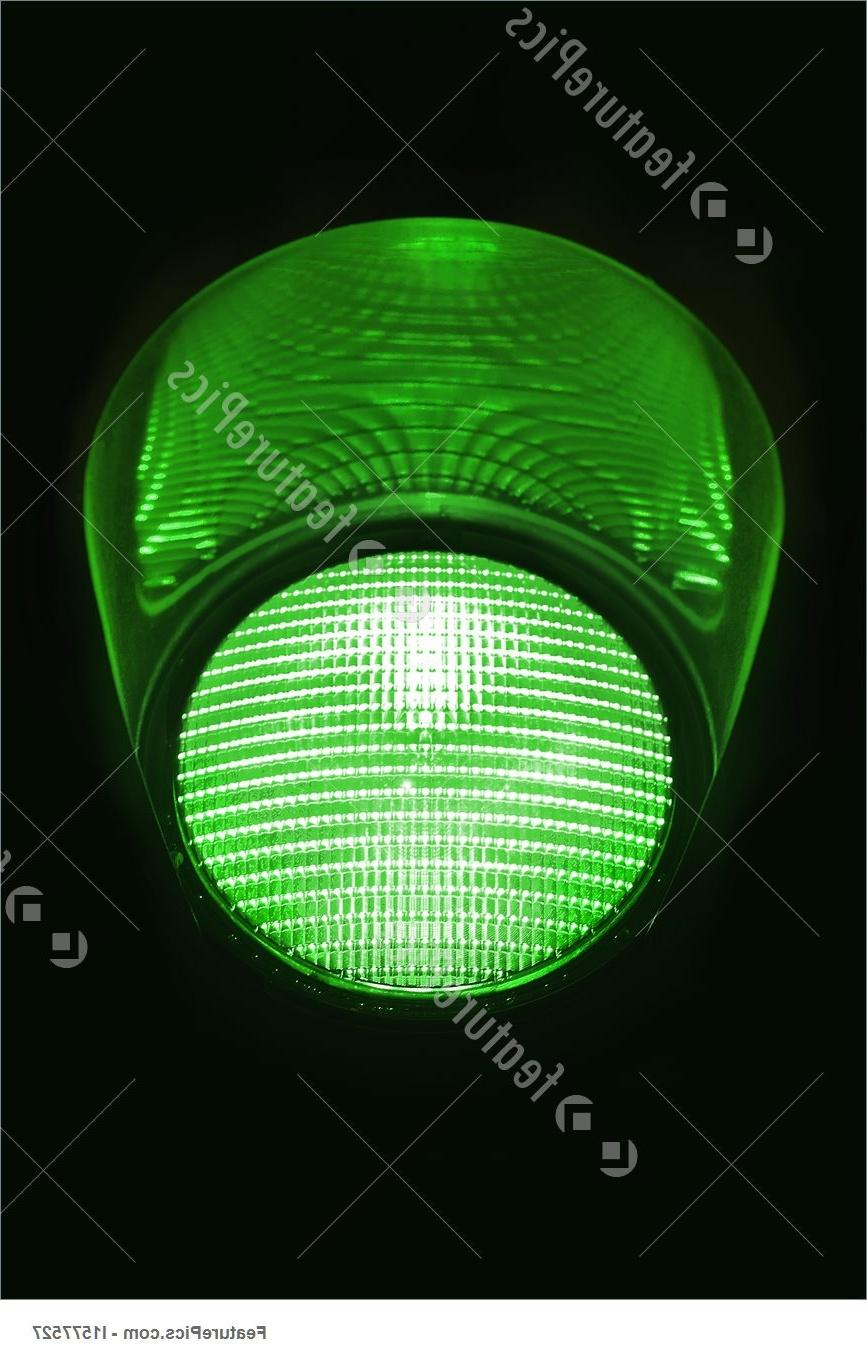Traffic light green: (40, 0, 837, 1167)
